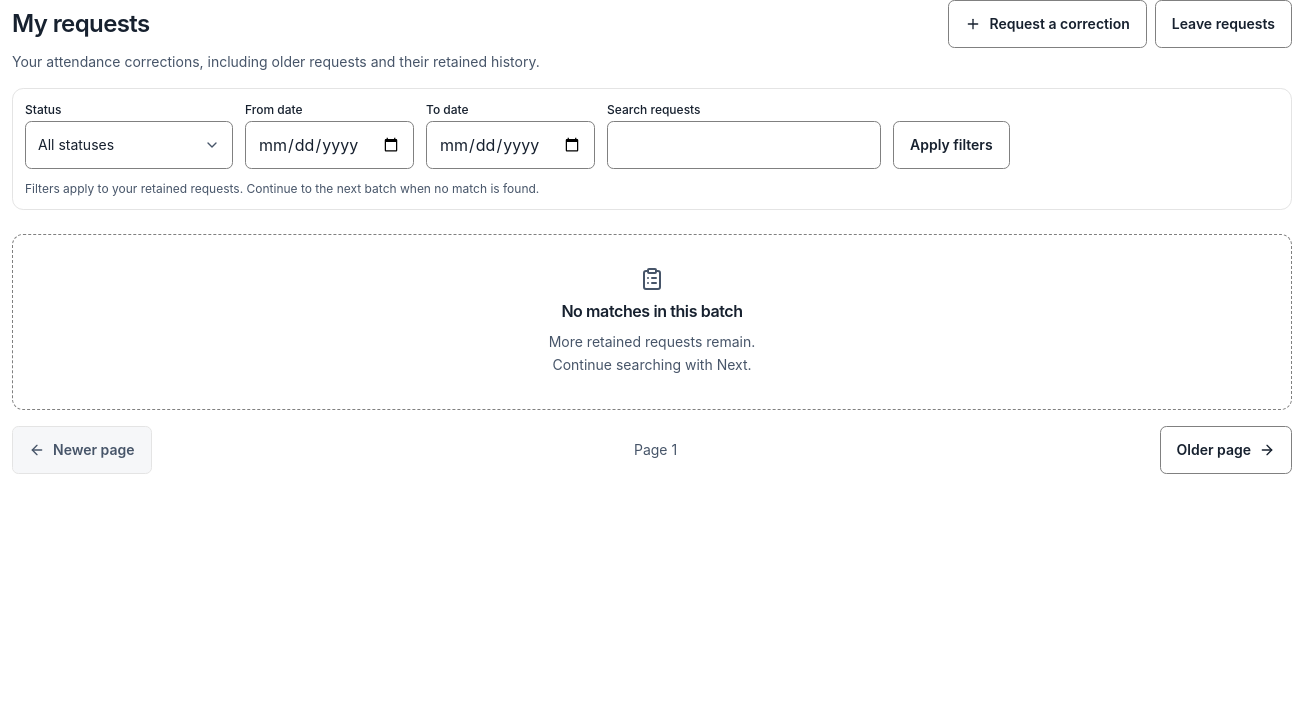
keeps scanning filtered requests and resets the cursor when applying search
The width and height of the screenshot is (1304, 720).
Check: the text "No matches in this batch" is shown, box [561,299,743,323]
Click the button "Older page" at [1226, 450], box [1160,426,1292,474]
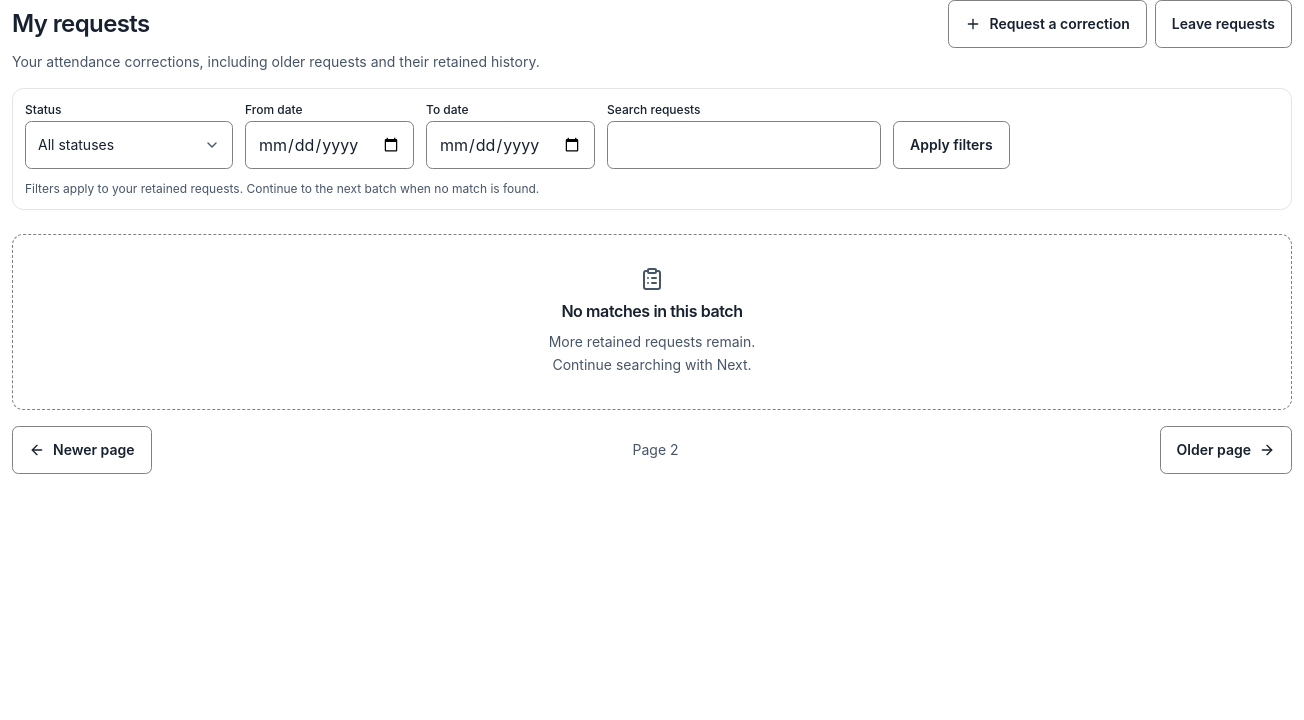
Type " missed punch " into the search field labelled "Search requests" at [744, 145], box [607,121,881,169]
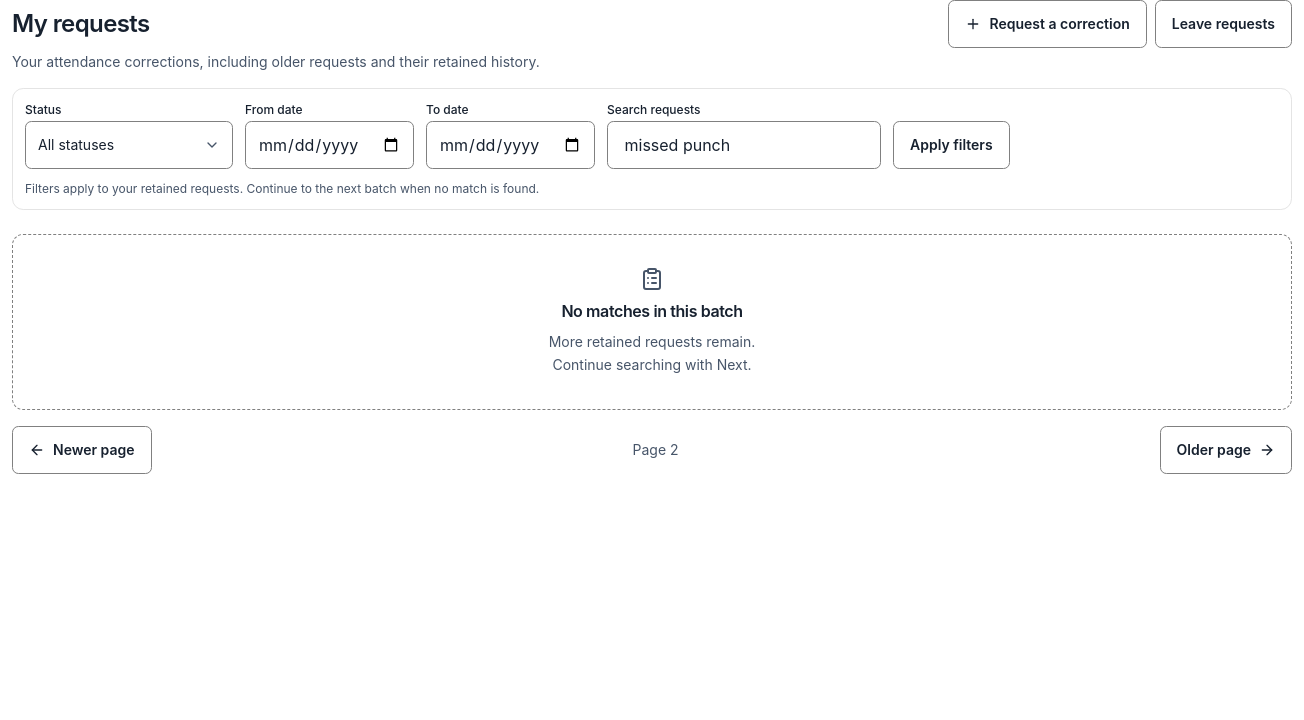
Type "2026-10-01" into the date field labelled "From date" at [330, 145], box [245,121,414,169]
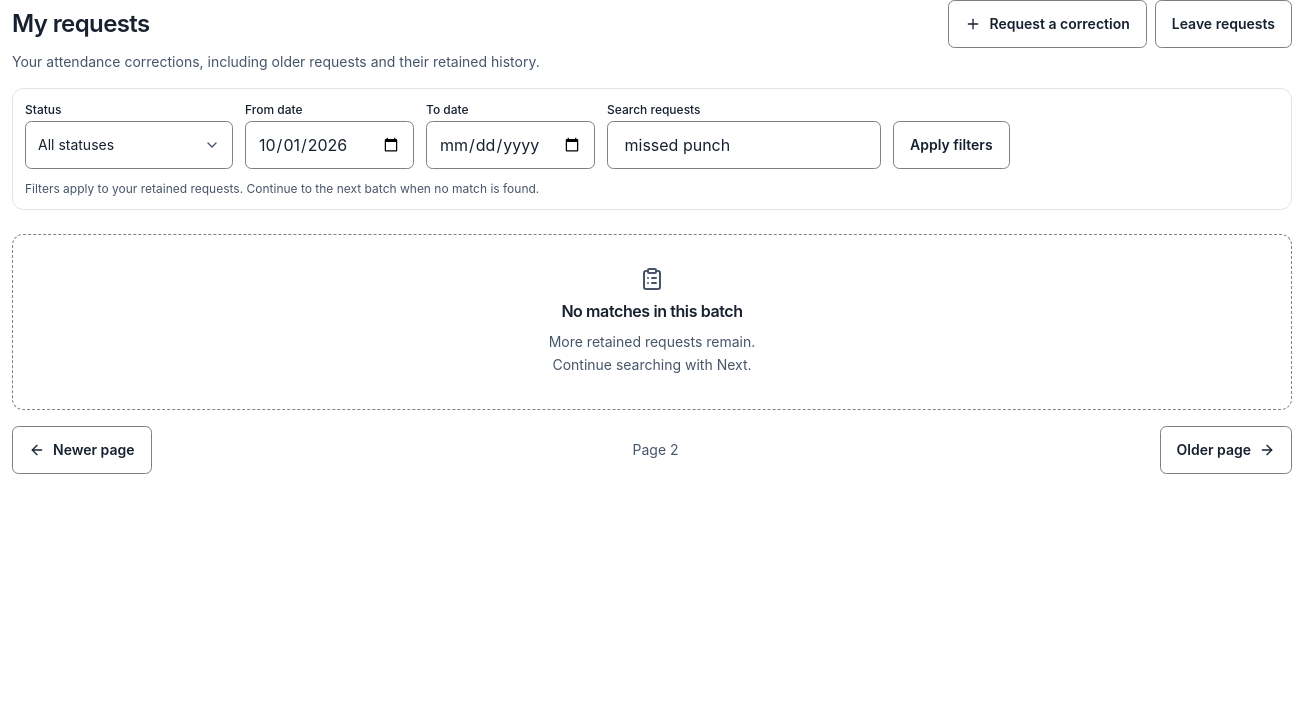
Click the button "Apply filters" at [951, 145], box [893,121,1010,169]
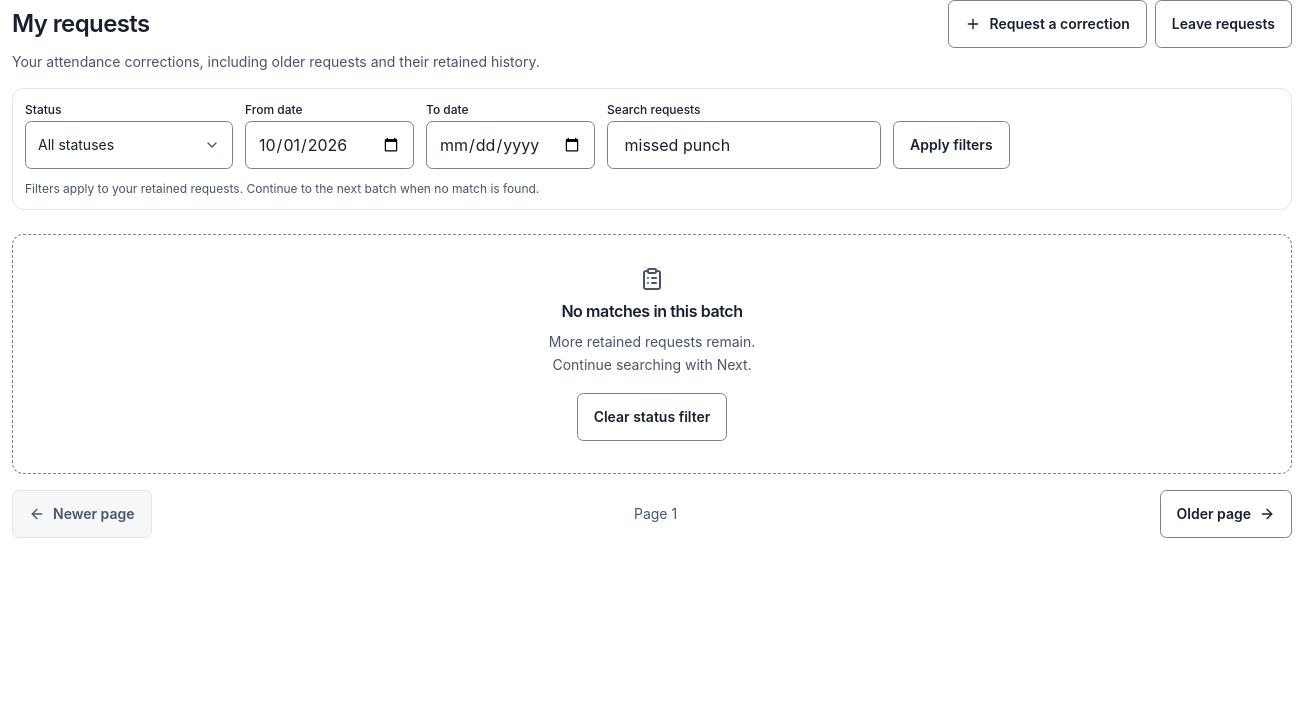
Check: the button "Newer page" is disabled, box [12,490,152,538]
